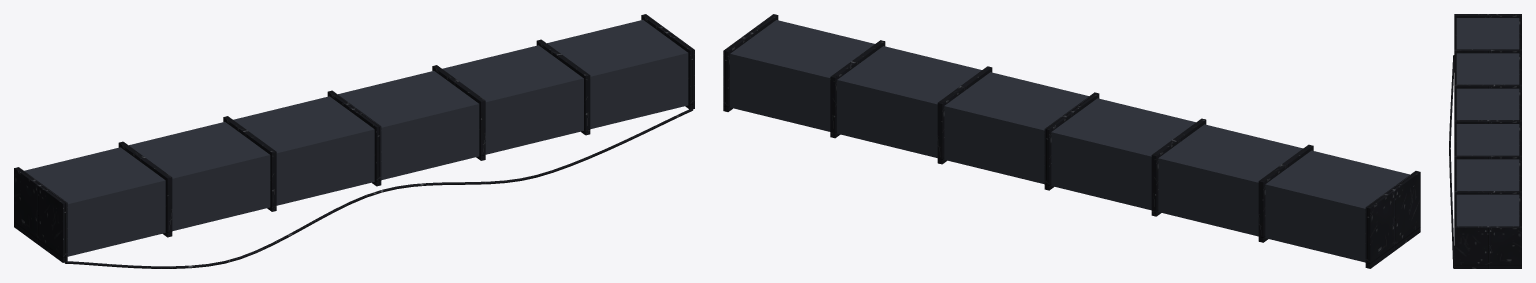
Rendered from Arch_CeilingDuct_4m.gltf.
3 renders of one model, left to right at view 1: azimuth 30°, elevation 25°; view 2: azimuth 150°, elevation 25°; view 3: azimuth 270°, elevation 25°, orthographic. The views are drawn at different scales.
Parts seen in each view (by area): view 1: Arch_CeilingDuct_4m; view 2: Arch_CeilingDuct_4m; view 3: Arch_CeilingDuct_4m.
Part boxes in pixels (<box>): Arch_CeilingDuct_4m: <box>14,14,694,268</box>; Arch_CeilingDuct_4m: <box>723,14,1420,268</box>; Arch_CeilingDuct_4m: <box>1449,14,1521,268</box>.
Bounding box in the file's own units: 4.03 × 0.5876 × 0.5811.
2 materials, 1 textured.
